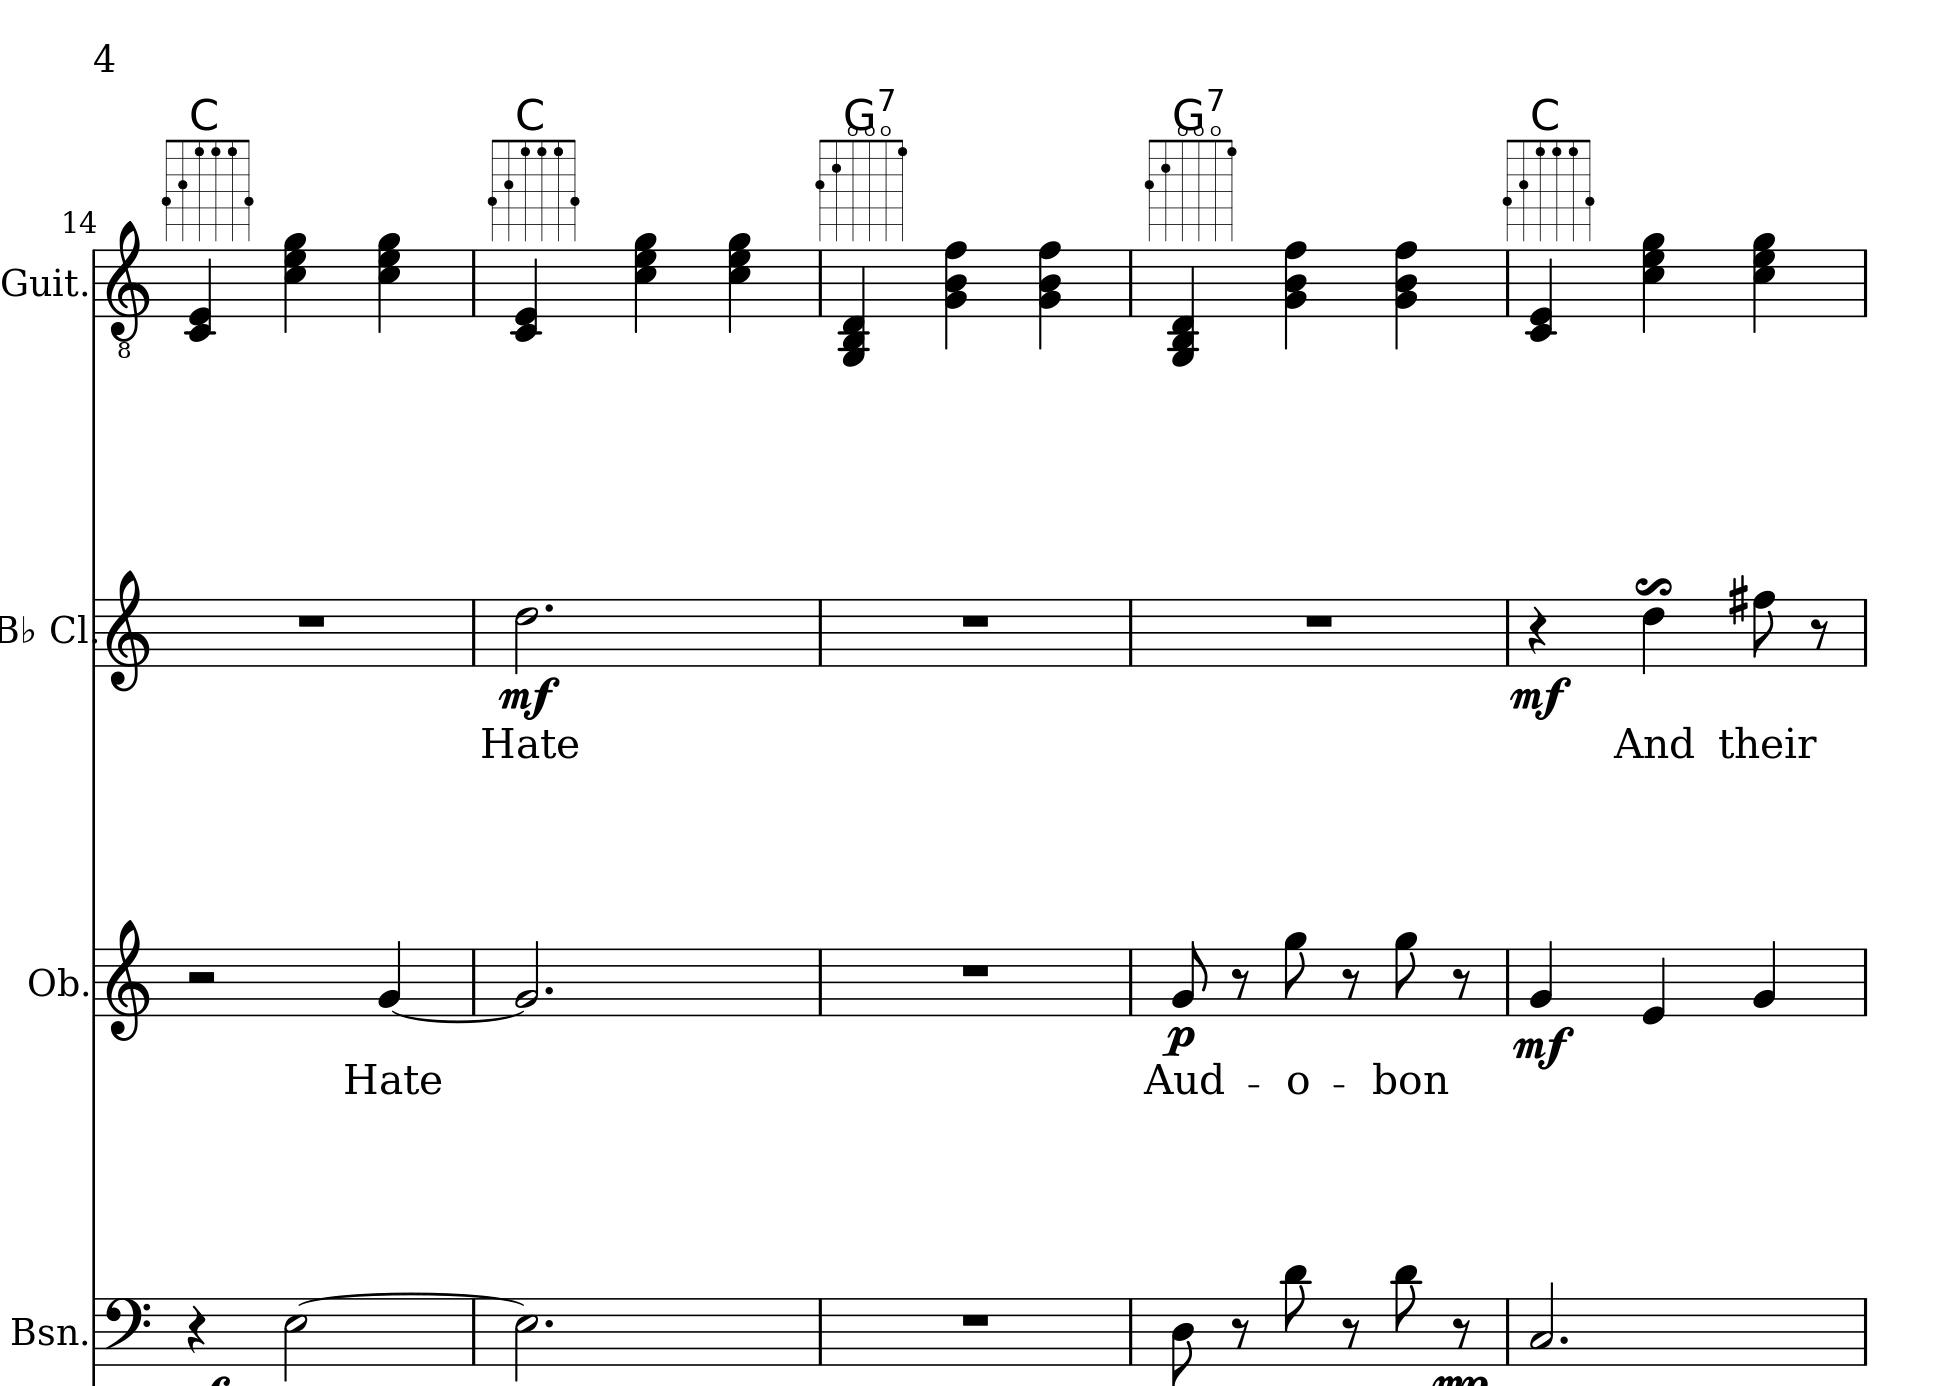2_2: (514, 937, 541, 1018)
2_3: (1530, 1279, 1555, 1366)
2_5: (513, 1296, 538, 1383), (282, 1296, 307, 1381)
2_6: (513, 595, 541, 676)
4: (93, 40, 115, 73)
4_-2_0: (1525, 247, 1560, 343), (183, 247, 217, 342), (508, 247, 543, 342)
4_0: (1641, 946, 1668, 1024)
4_2: (376, 937, 403, 1018), (1752, 937, 1779, 1018), (1528, 937, 1554, 1017)
4_6: (1641, 597, 1668, 675)
4_th: (835, 247, 871, 367), (1167, 244, 1201, 367), (940, 240, 969, 349), (1035, 240, 1063, 349), (1281, 240, 1309, 349), (1392, 240, 1419, 349), (630, 229, 658, 333), (1638, 229, 1666, 333), (724, 229, 751, 334), (280, 229, 307, 334), (373, 229, 400, 333), (1749, 229, 1776, 333)
7: (877, 84, 895, 112), (1207, 84, 1224, 112)
8_11: (1281, 1263, 1312, 1368), (1392, 1263, 1422, 1366)
8_2: (1170, 939, 1209, 1015)
8_4: (1170, 1294, 1198, 1386)
8_8: (1752, 588, 1779, 669)
8_9: (1282, 930, 1309, 1017), (1392, 930, 1419, 1017)
Bsn: (10, 1312, 78, 1351)
Cl: (48, 609, 87, 646)
Fclef: (103, 1296, 154, 1368)
Fretboard: (1138, 132, 1242, 243), (810, 133, 913, 241), (157, 135, 256, 241), (484, 135, 583, 241), (1500, 136, 1599, 241)
Gclef: (103, 568, 153, 693), (103, 918, 151, 1042)
Guit: (1, 262, 81, 301)
Inverted_turn: (1635, 574, 1672, 597)
Lower_Gclef: (103, 220, 150, 360)
Ob: (28, 963, 79, 1000)
Rests1: (957, 1309, 993, 1330), (292, 610, 330, 630), (1302, 610, 1338, 630), (957, 960, 993, 979), (958, 610, 993, 630)
Rests2: (181, 967, 219, 985)
Rests4: (184, 1303, 208, 1356), (1527, 604, 1548, 655)
Rests8: (1807, 615, 1833, 651), (1230, 966, 1251, 1000), (1341, 966, 1362, 1000), (1452, 966, 1473, 1000), (1230, 1315, 1251, 1350), (1452, 1315, 1473, 1350), (1341, 1315, 1362, 1348)
Sharp: (1725, 571, 1749, 627)
Single_barline: (1855, 598, 1875, 666), (1120, 250, 1140, 316), (463, 1299, 483, 1363), (1122, 948, 1140, 1015), (811, 250, 829, 316), (1122, 598, 1140, 664), (1122, 1297, 1140, 1363), (1857, 1297, 1875, 1363), (811, 1297, 829, 1363), (1857, 249, 1873, 316), (465, 948, 481, 1015), (465, 250, 481, 316), (465, 598, 481, 664), (811, 598, 828, 664), (1857, 948, 1873, 1014), (811, 949, 828, 1015), (1500, 1297, 1516, 1363), (87, 948, 102, 1015), (1500, 250, 1515, 316), (1500, 598, 1515, 664), (1500, 949, 1515, 1014), (87, 1297, 100, 1365), (88, 247, 100, 318), (88, 598, 100, 667)
Slur: (297, 1287, 532, 1306), (393, 1008, 517, 1023)
dot: (541, 1315, 556, 1332), (541, 982, 556, 997), (541, 600, 555, 615), (1558, 1333, 1570, 1345)
mf: (1512, 1024, 1576, 1072), (1509, 673, 1572, 721), (499, 673, 561, 720)
p: (1161, 1024, 1195, 1057)
